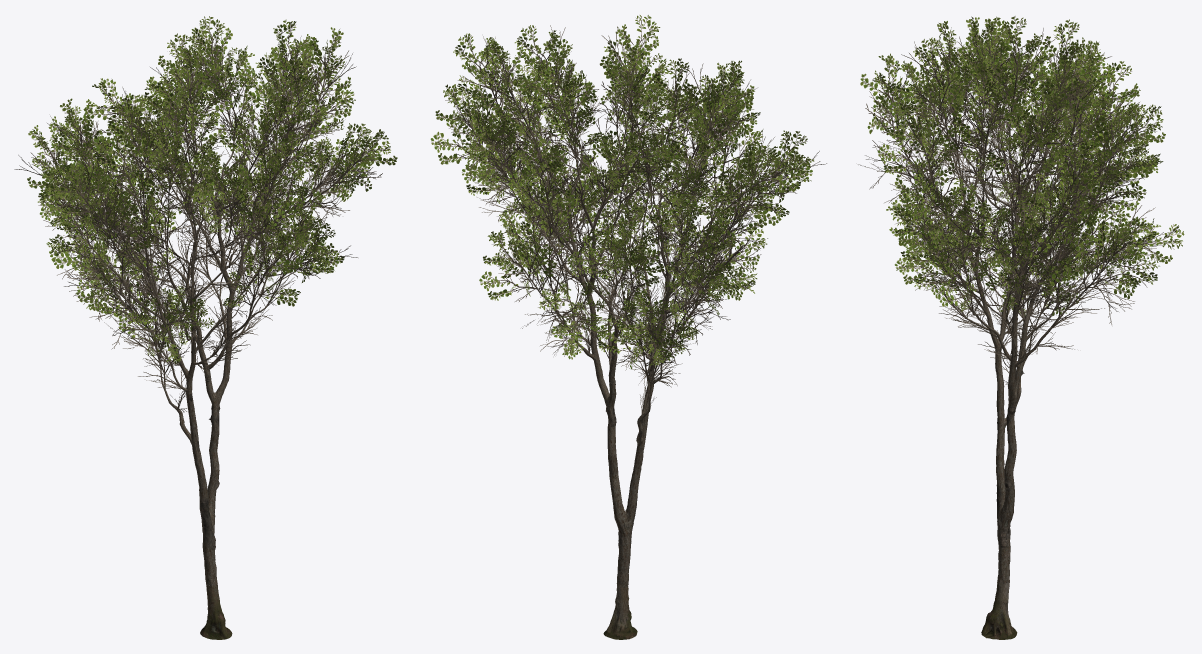
The model's file is SM_BlackAlder_Forest_04_PP_LOD2.gltf.
3 renders of one model, left to right at view 1: azimuth 30°, elevation 25°; view 2: azimuth 150°, elevation 25°; view 3: azimuth 270°, elevation 25°, orthographic. The views are drawn at different scales.
Parts seen in each view (by area): view 1: SM_BlackAlder_Forest_04_PP; view 2: SM_BlackAlder_Forest_04_PP; view 3: SM_BlackAlder_Forest_04_PP.
Boxes of the visible parts, bbox=[...] form: SM_BlackAlder_Forest_04_PP: bbox=[14, 16, 397, 639]; SM_BlackAlder_Forest_04_PP: bbox=[430, 15, 826, 639]; SM_BlackAlder_Forest_04_PP: bbox=[858, 16, 1184, 639].
Size of the model in its own units: 7.06 by 11.76 by 5.8.
4 materials, 4 textured.
